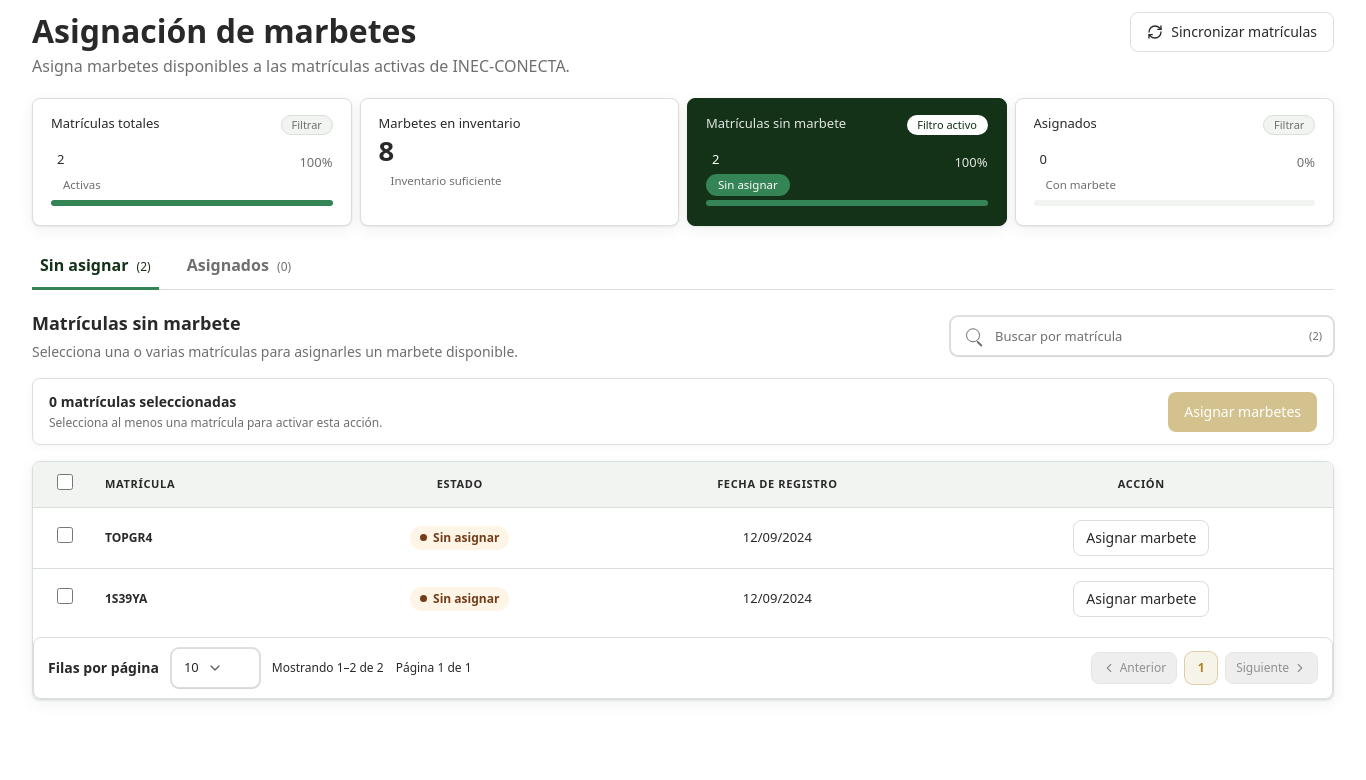
Test: AsociarPageClient › SIS remediation: search filter is null-safe and matches sisId
Type "TOP" into the search field with test id "unassigned-search" at coordinates (1142, 336), box [950, 316, 1334, 356]
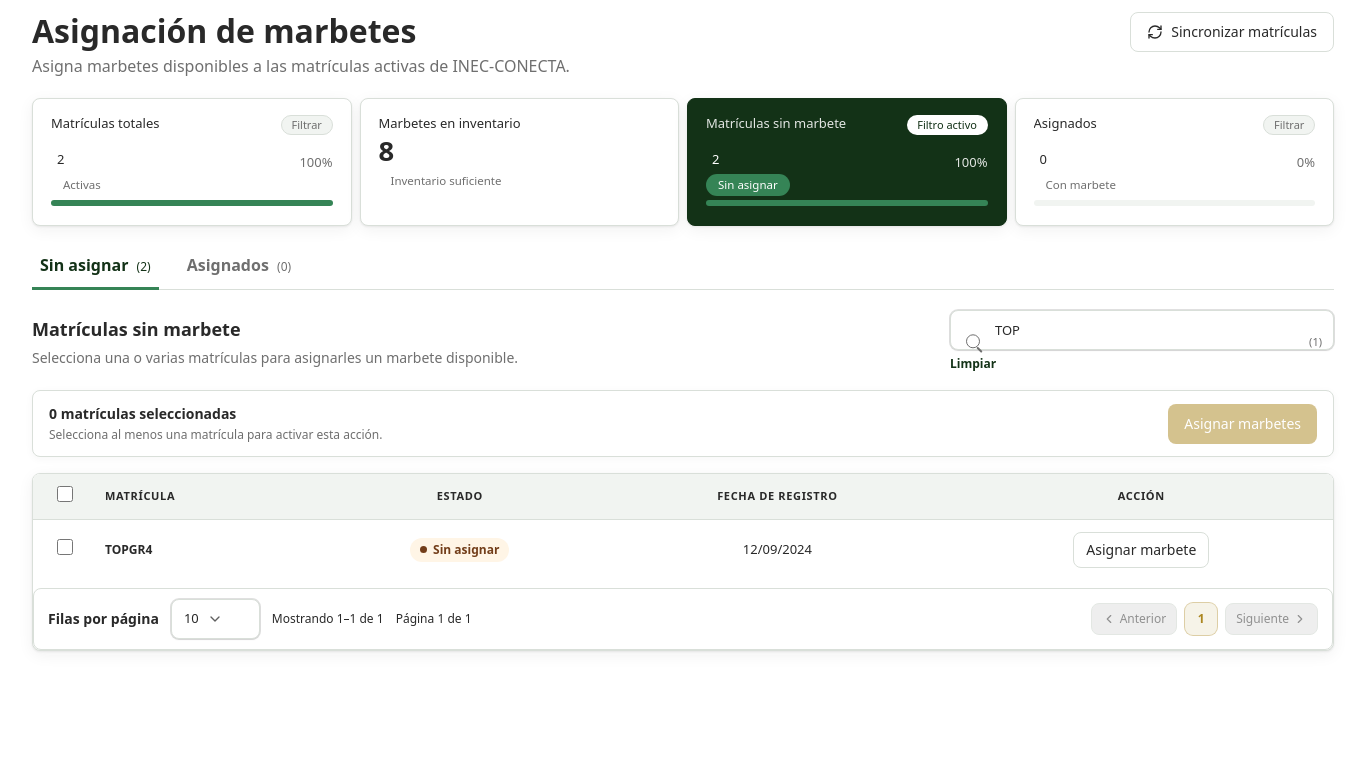
Expected: the cell with test id "unassigned-matricula-901" reads "TOPGR4", [105, 541, 152, 558]
Expected: the cell with test id "unassigned-matricula-902" is gone
